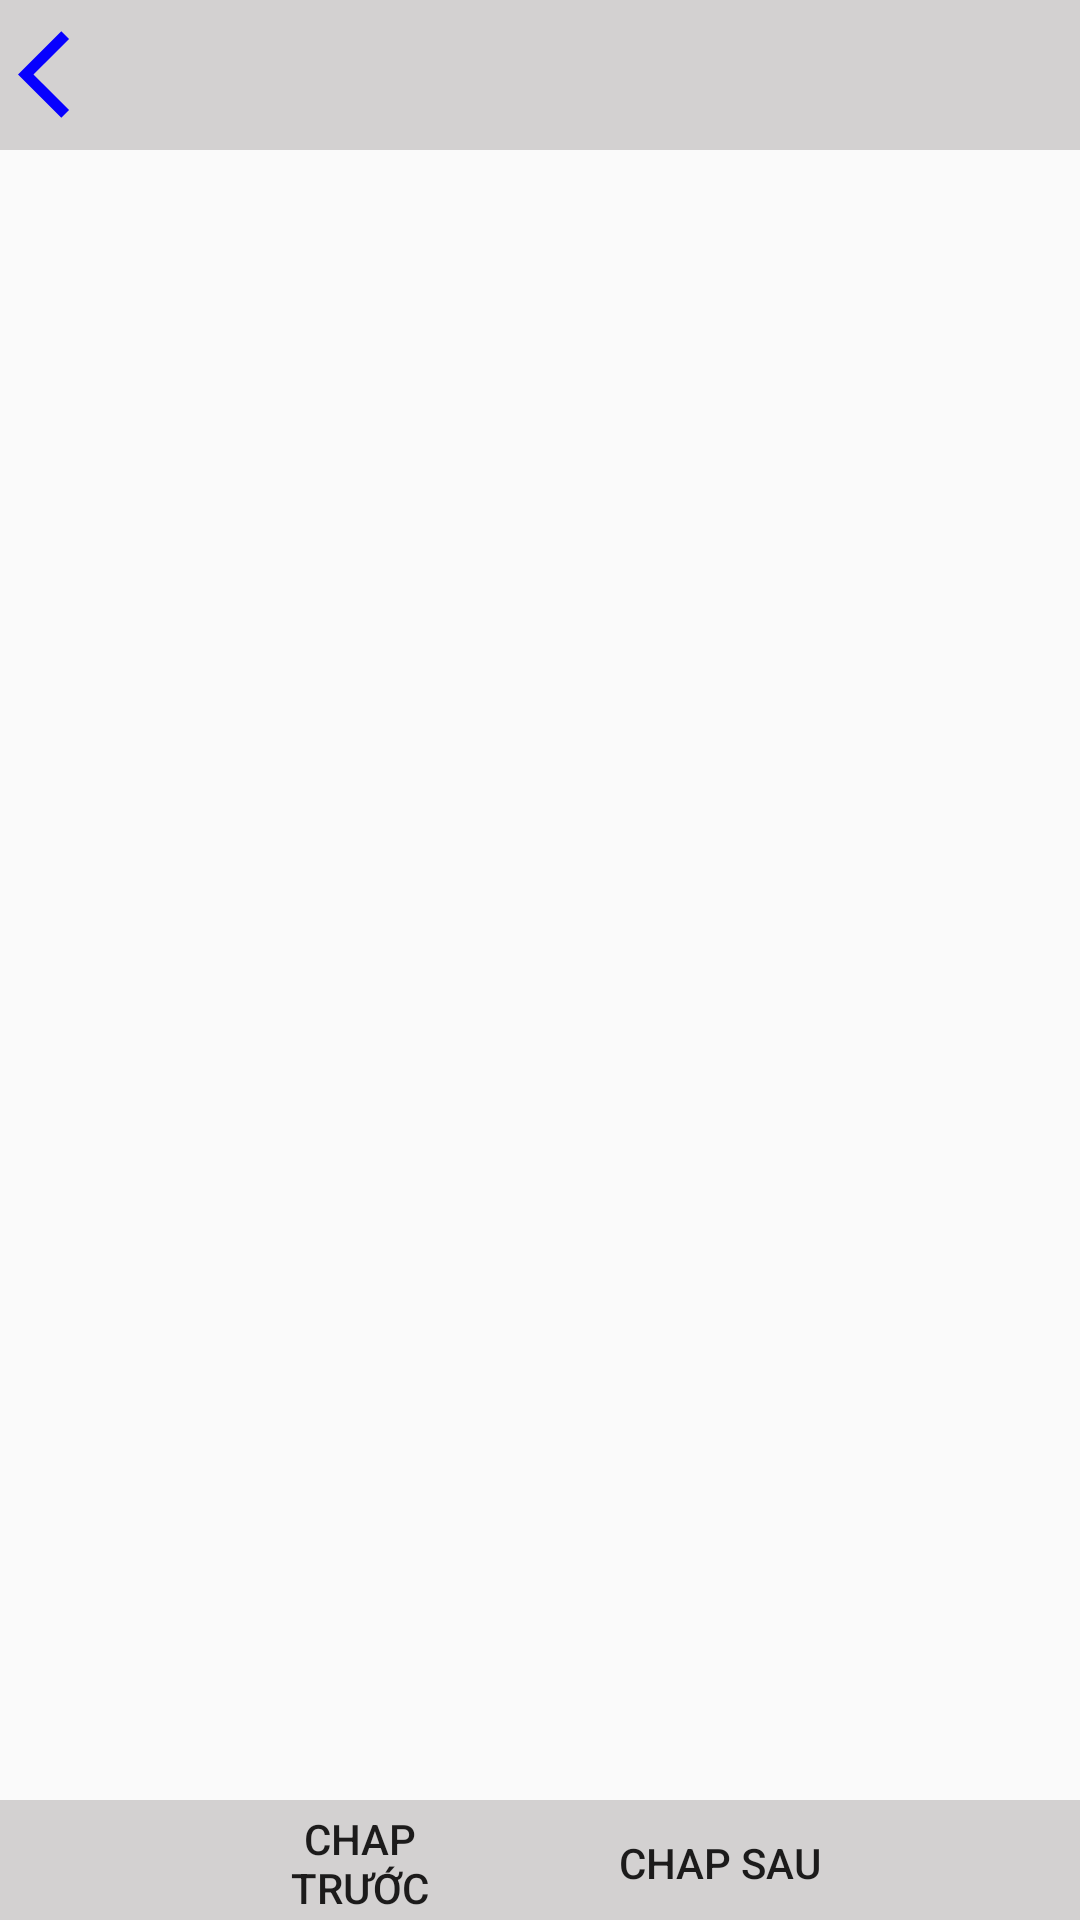

Where to tap for icons on this 1080px×1920px app screen, as point (x, y):
backnew: point (43, 74)
